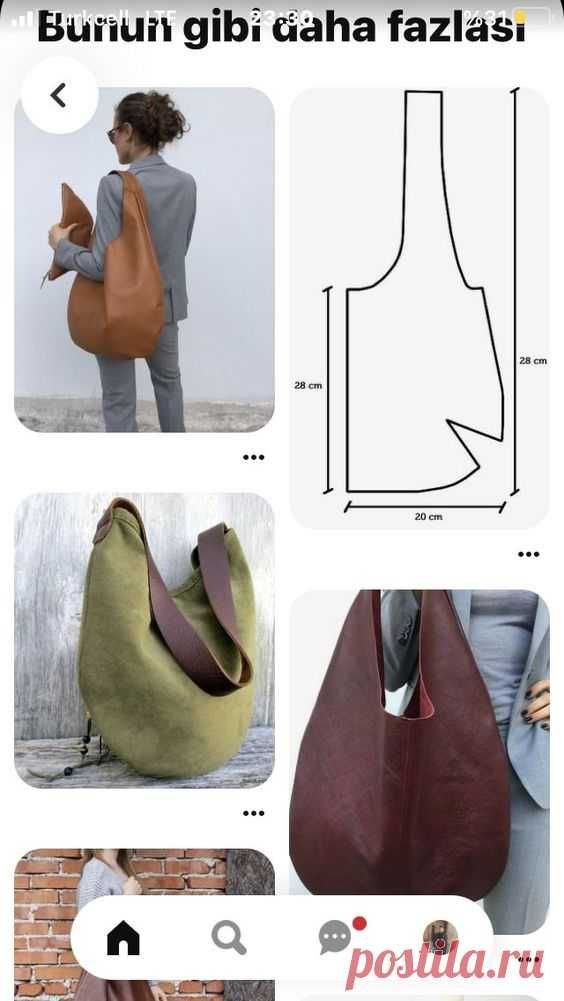cuero: (43, 170, 512, 902)
